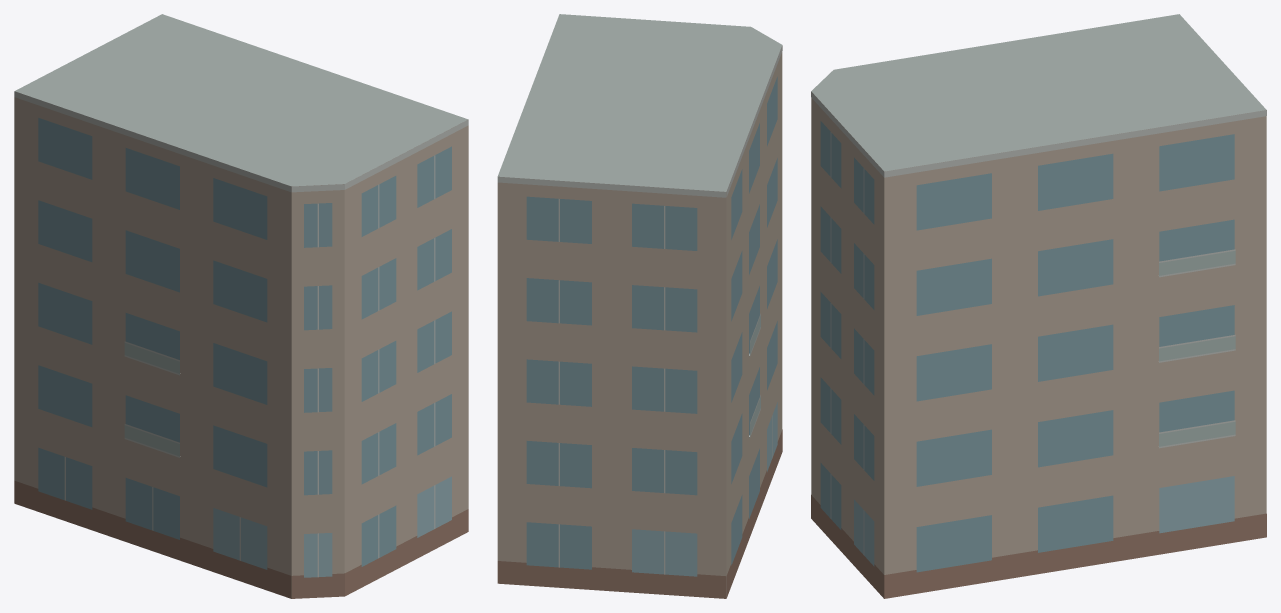
The model's file is survey-upis-32863645.glb.
3 renders of one model, left to right at view 1: azimuth 30°, elevation 25°; view 2: azimuth 150°, elevation 25°; view 3: azimuth 270°, elevation 25°, orthographic. The views are drawn at different scales.
Visible parts, largest first — view 1: survey-upis-32863645.tmp; view 2: survey-upis-32863645.tmp; view 3: survey-upis-32863645.tmp.
Part boxes in pixels (box(x1,y1,x2,y2)): survey-upis-32863645.tmp: box(14, 14, 468, 598); survey-upis-32863645.tmp: box(497, 14, 782, 598); survey-upis-32863645.tmp: box(811, 14, 1266, 598).
Bounding box in the file's own units: 13.45 × 17 × 16.44.
